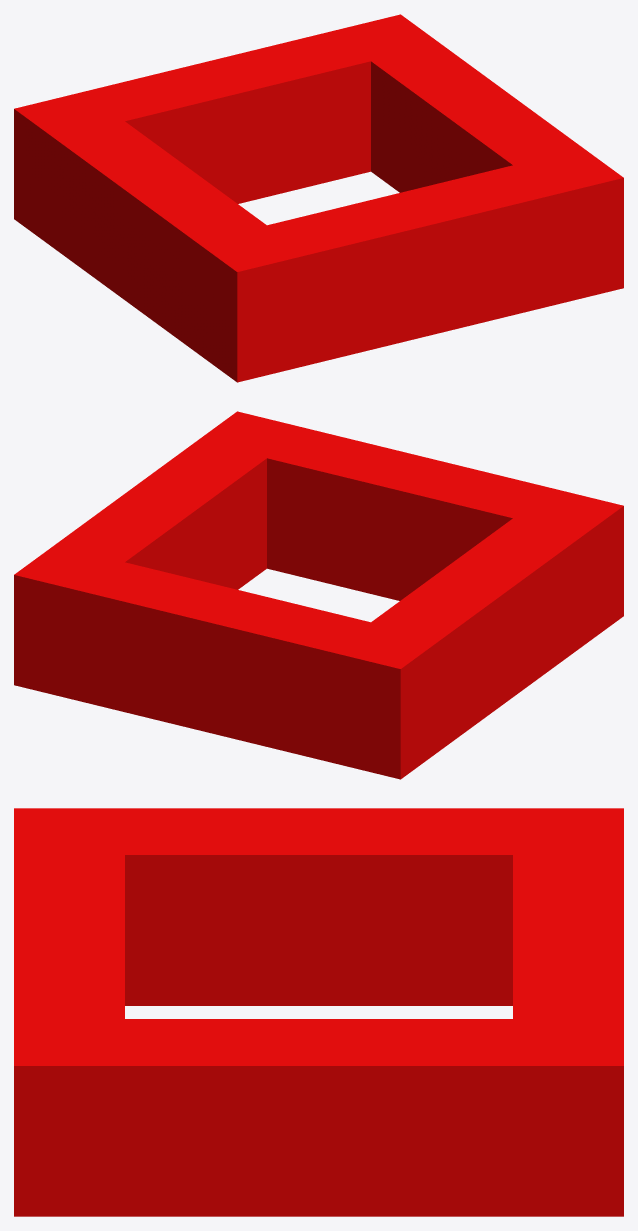
File: CubeBase-2-13-6.dae
3 renders of one model, top to bottom at view 1: azimuth 30°, elevation 25°; view 2: azimuth 150°, elevation 25°; view 3: azimuth 270°, elevation 25°, orthographic. The views are drawn at different scales.
Visible parts, largest first — view 1: SketchUp (×2); view 2: SketchUp (×2); view 3: SketchUp (×2).
Boxes of the visible parts, x1,y1,x2,y2 form: SketchUp (×2): (14, 14, 623, 382); SketchUp (×2): (14, 411, 623, 779); SketchUp (×2): (14, 808, 623, 1216).
Size of the model in its own units: 8.66 by 8.66 by 2.36.
